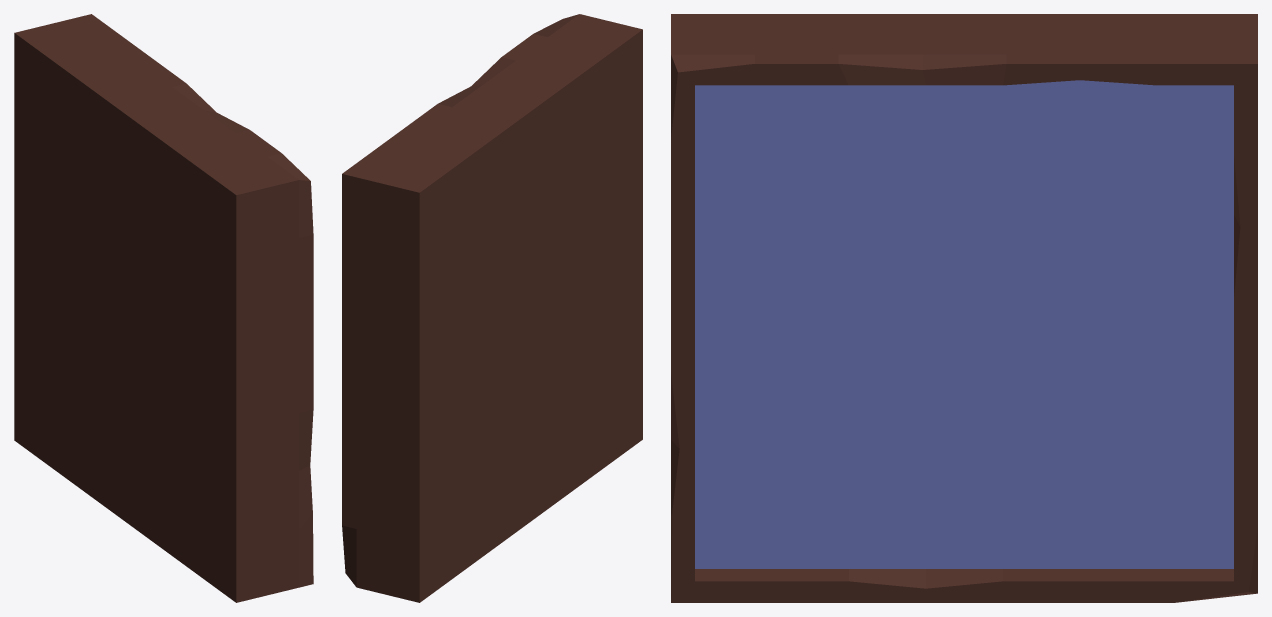
Rendered from GSWindowInside.fbx.
3 renders of one model, left to right at view 1: azimuth 30°, elevation 25°; view 2: azimuth 150°, elevation 25°; view 3: azimuth 270°, elevation 25°, orthographic. The views are drawn at different scales.
Parts seen in each view (by area): view 1: Frame; view 2: Frame; view 3: Window, Frame.
Part boxes in pixels (box(x1,y1,x2,y2)): Frame: box(14, 14, 313, 602); Frame: box(342, 14, 642, 602); Window: box(695, 80, 1233, 568); Frame: box(671, 14, 1257, 602).
Size of the model in its own units: 29.64 by 149 by 147.
1 material, 1 textured.
